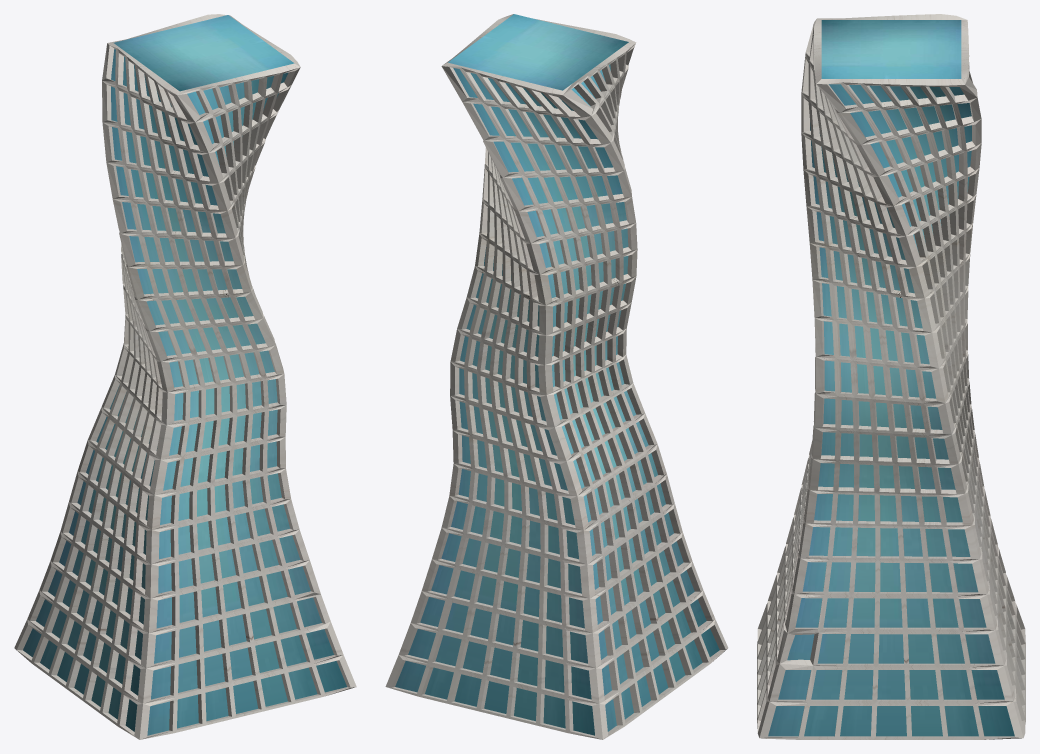
File: Edificio 2.FBX
3 views of the same model, side by side, from view 1: azimuth 30°, elevation 25°; view 2: azimuth 150°, elevation 25°; view 3: azimuth 270°, elevation 25° (orthographic). The views are drawn at different scales.
Visible parts, largest first — view 1: Box005, Box004; view 2: Box005, Box004; view 3: Box005, Box004.
Boxes of the visible parts, <box> form: Box005: <box>14,14,356,739</box>; Box004: <box>23,15,346,735</box>; Box005: <box>385,14,728,739</box>; Box004: <box>395,14,719,735</box>; Box005: <box>757,14,1025,739</box>; Box004: <box>768,20,1014,736</box>.
Size of the model in its own units: 1058 by 2813 by 1058.
2 materials, 2 textured.
